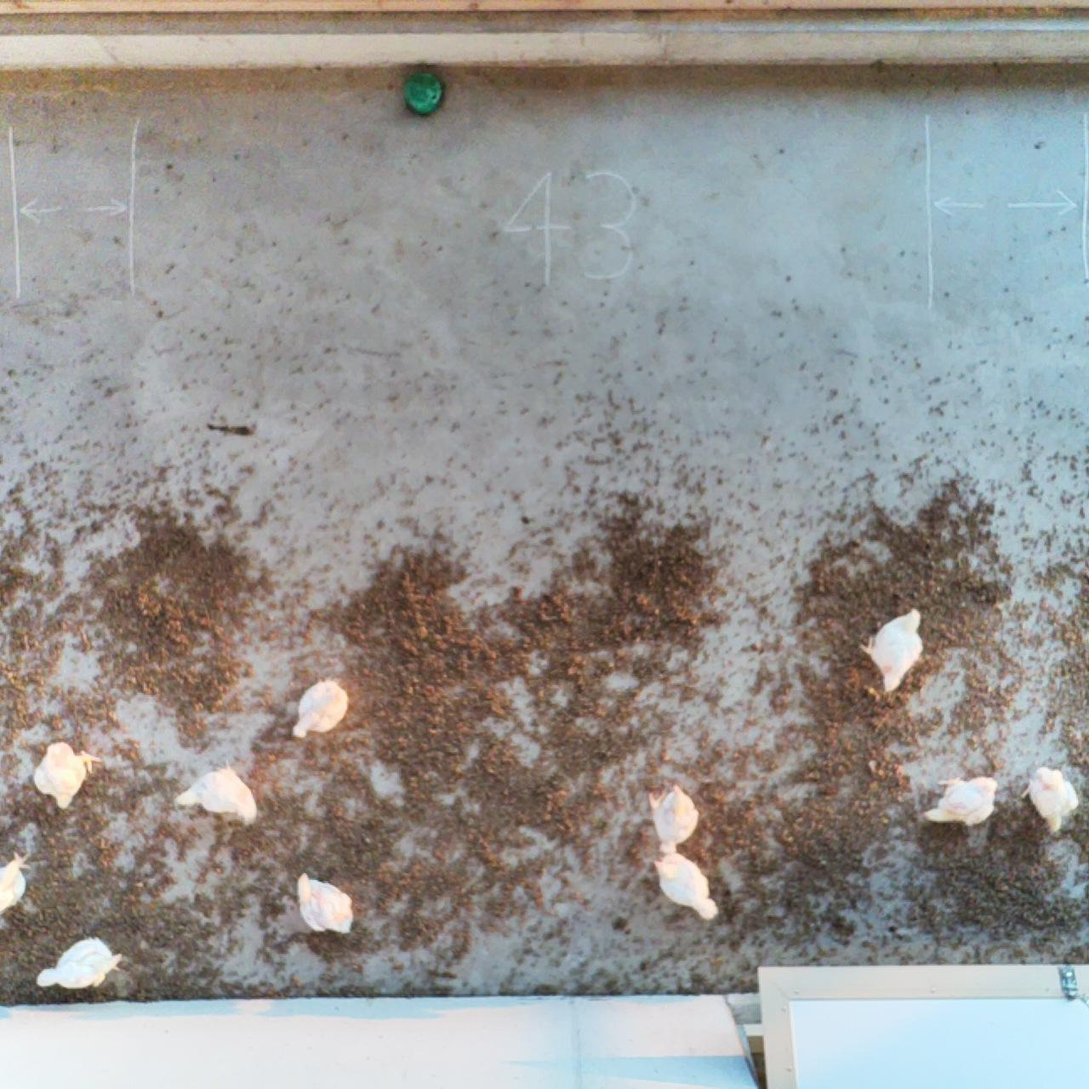chicken: (172, 755, 261, 830), (856, 606, 930, 696), (30, 737, 106, 816), (34, 932, 128, 994), (291, 867, 358, 941), (919, 771, 1002, 830), (653, 851, 720, 924), (1017, 765, 1082, 836), (289, 674, 353, 744), (646, 778, 701, 855), (0, 847, 35, 921)
